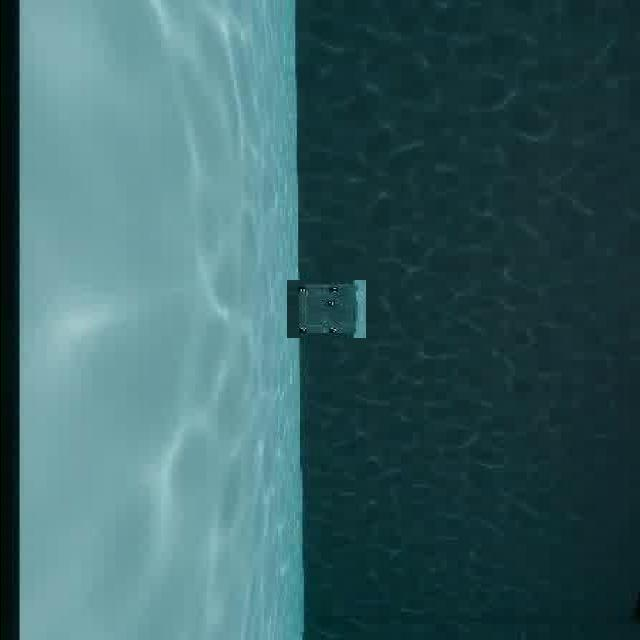Docking Station: (286, 279, 366, 338)
